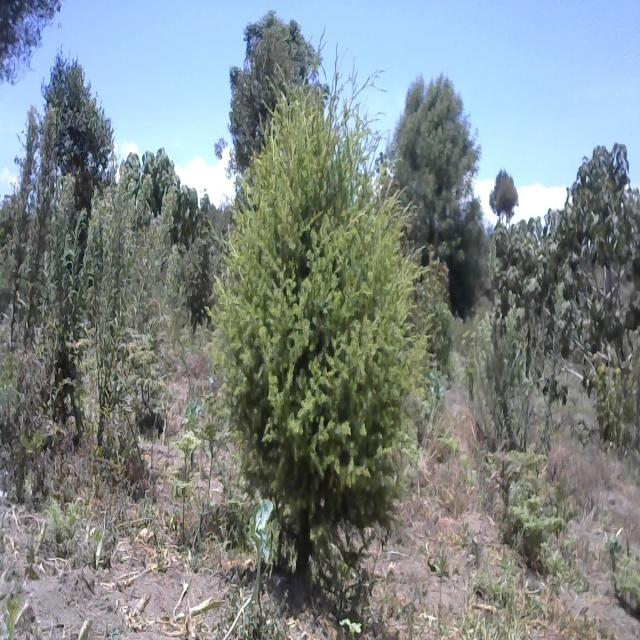Salix alba: (41, 45, 114, 198)
cedrus: (214, 55, 422, 621)
other: (557, 136, 640, 403), (392, 55, 482, 286)
